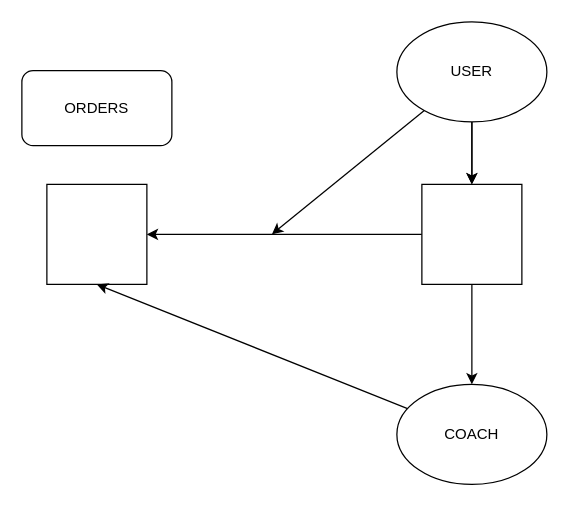
This 569x506 diagram has some shape labels left out. Here are the shapes that lost their labels. From the top down, the centre of each, then its label:
the point at 96,233: BAZA
the point at 471,233: BUYCOACH
